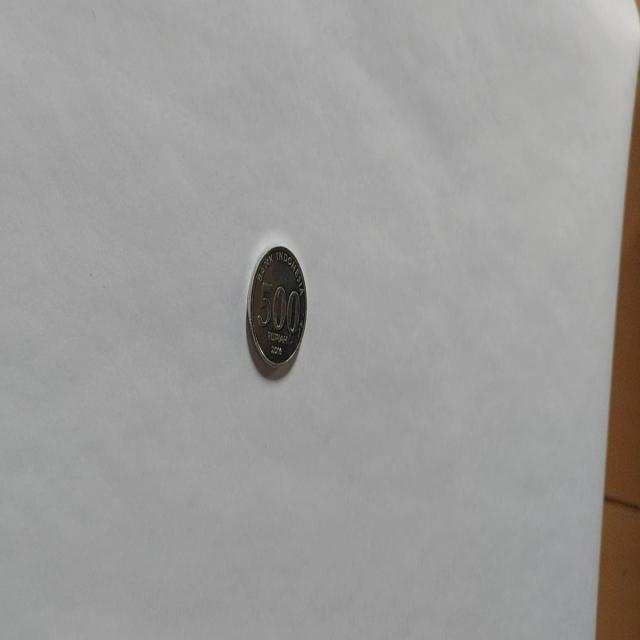lima ratus rupiah: (245, 242, 308, 378)
